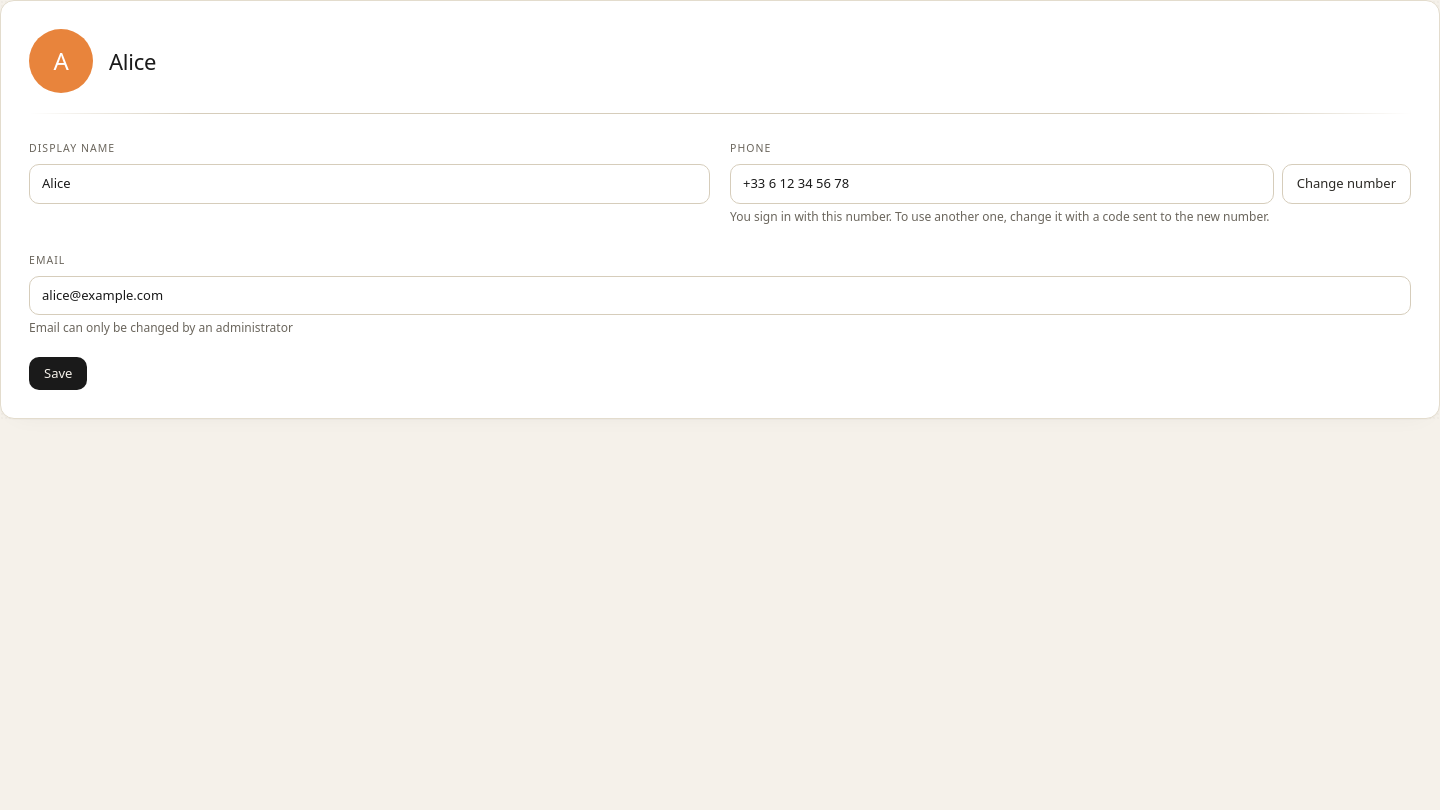
Scenario: ProfileForm — change number › explains a number taken by another account and stays on the first step
The width and height of the screenshot is (1440, 810).
Click the button "Change number" at (1346, 184), box [1282,164,1411,204]
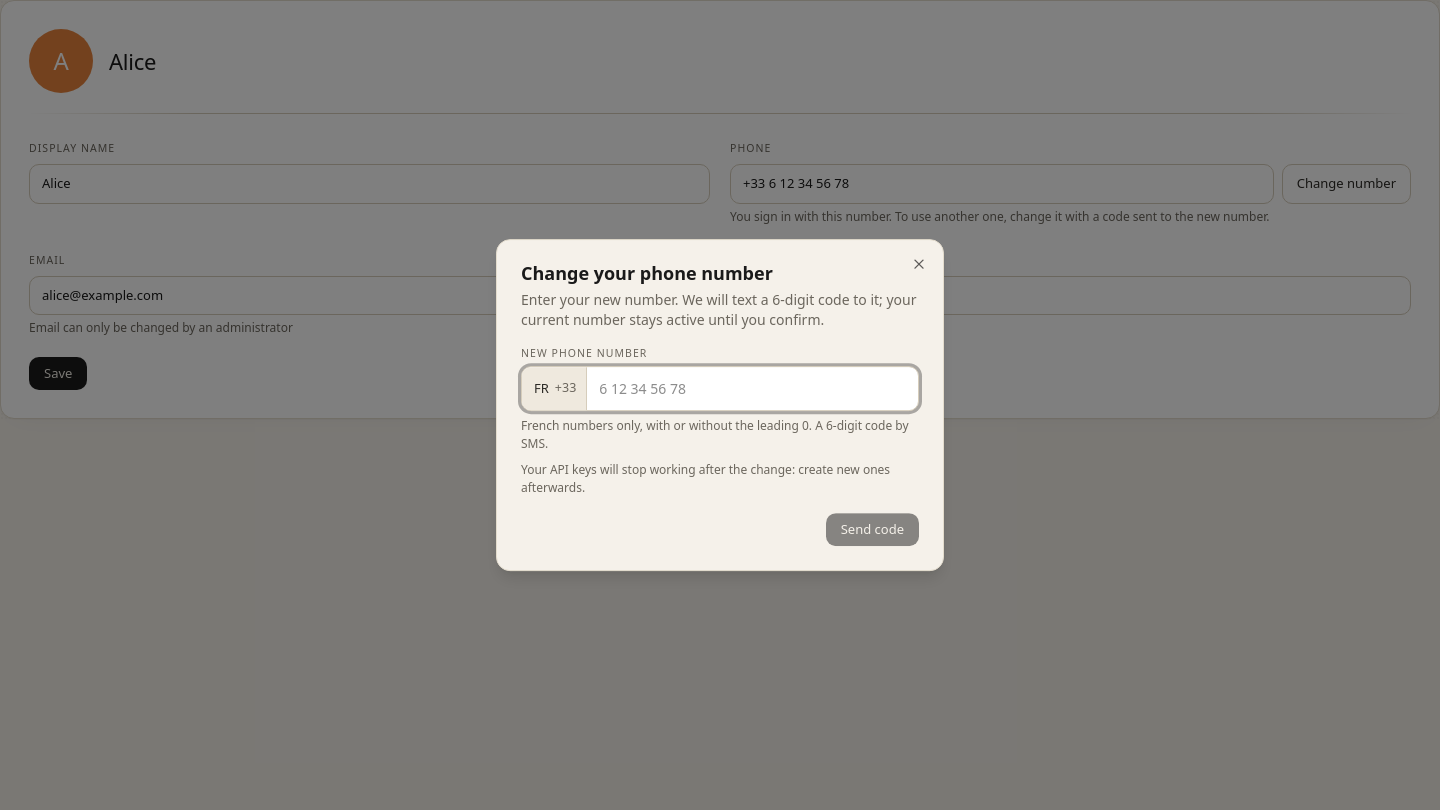
Type "0698765432" into the field with test id "change-phone-phone" at (753, 388), box [587,367,918,410]
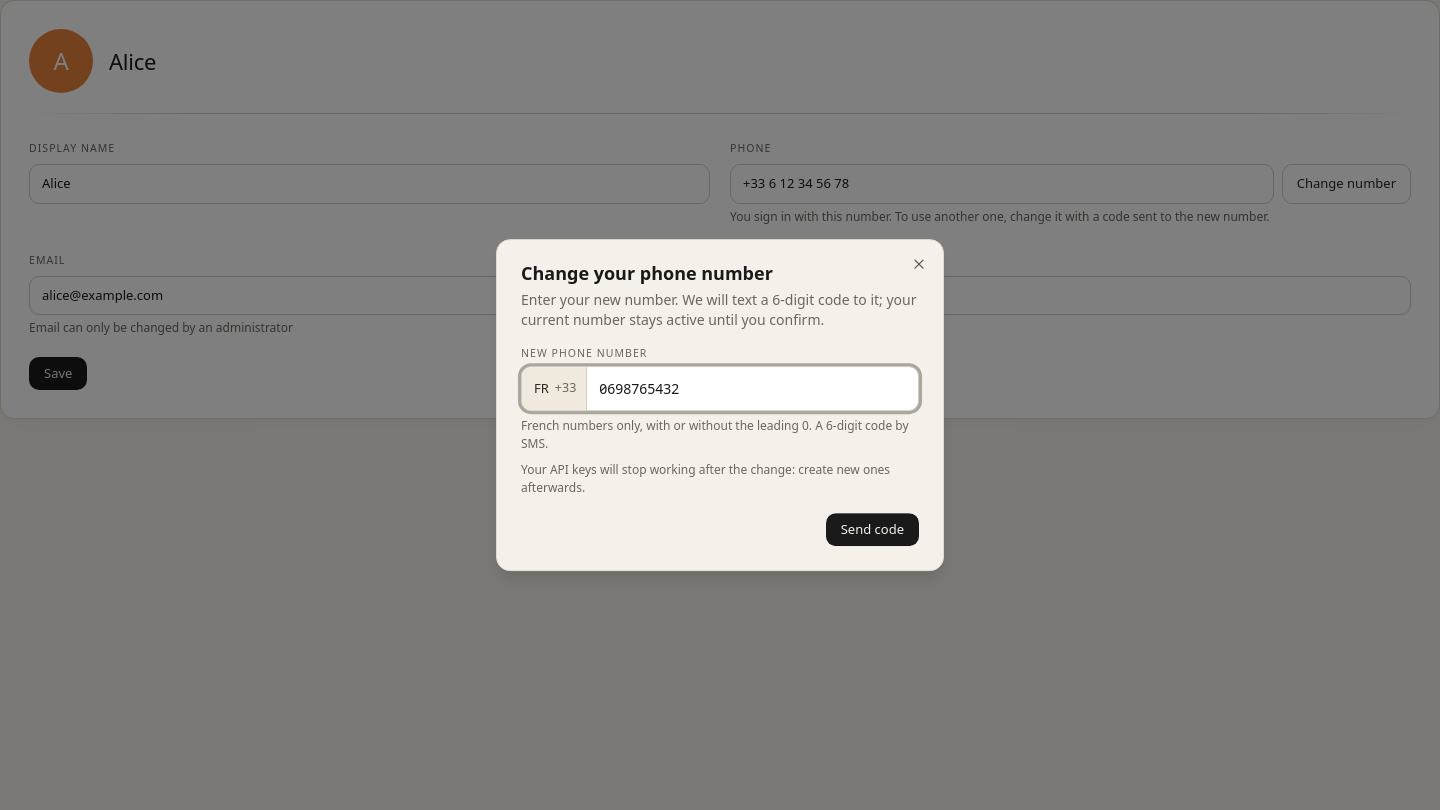
Click the button with test id "change-phone-send" at (872, 529), box [826,513,919,546]
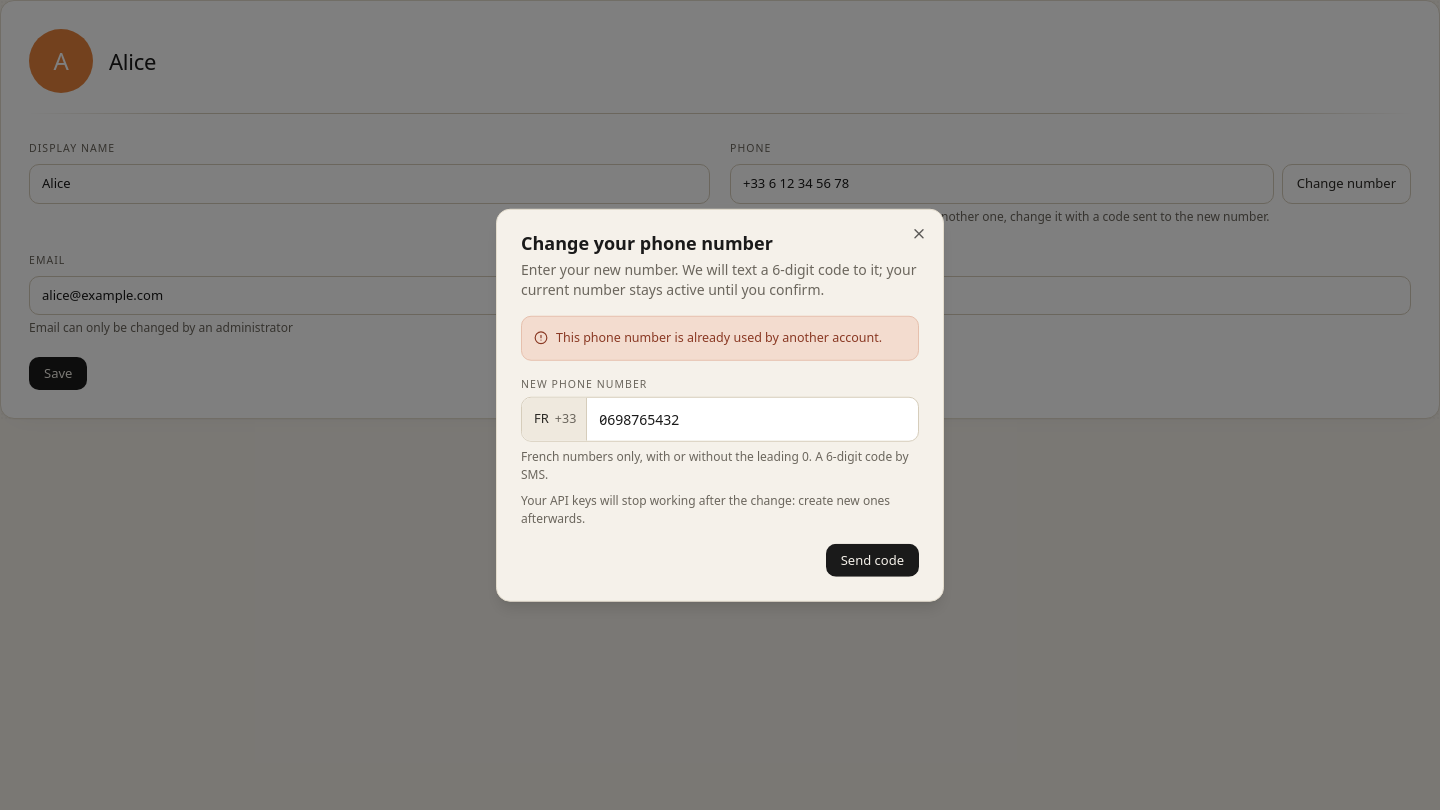
Now the message with test id "change-phone-error" reads "This phone number is already used by another account.", box [556,329,882,346]
